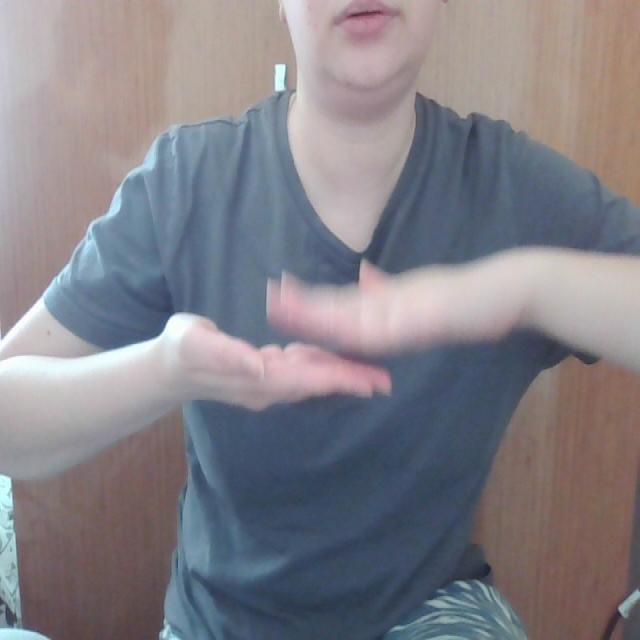Arkadas: (0, 248, 640, 422)
